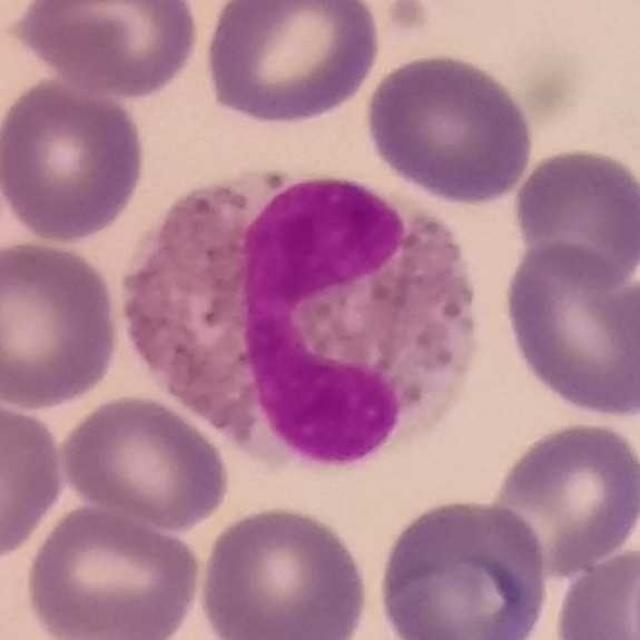eosino: (122, 163, 483, 470)
